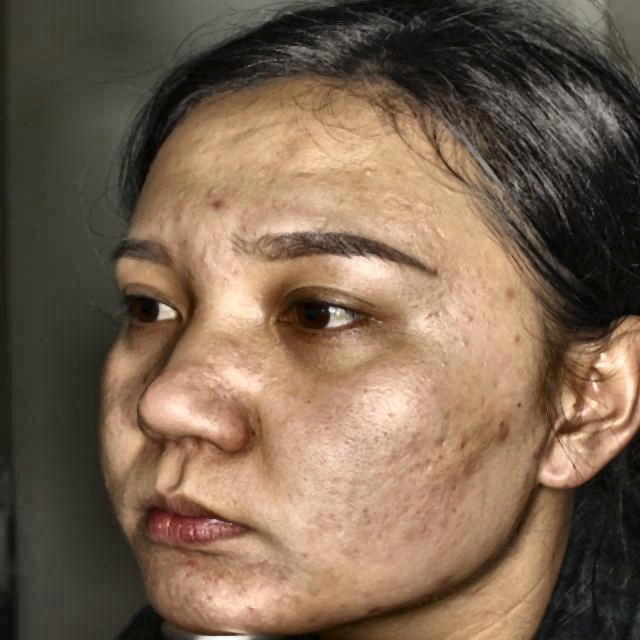pustule: (191, 188, 231, 226), (493, 328, 541, 352), (492, 278, 527, 309), (419, 568, 467, 588), (492, 416, 516, 454), (235, 594, 265, 617)
